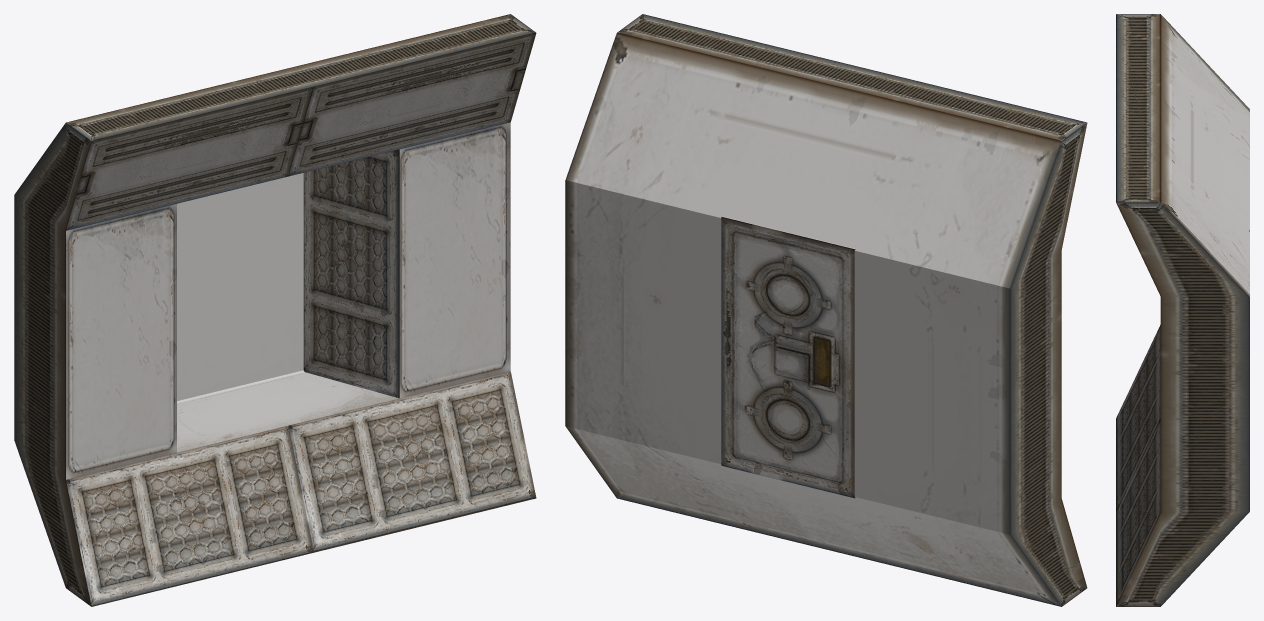
The model's file is scifi_wall10_3.FBX.
3 views of the same model, side by side, from view 1: azimuth 30°, elevation 25°; view 2: azimuth 150°, elevation 25°; view 3: azimuth 270°, elevation 25° (orthographic). The views are drawn at different scales.
Visible parts, largest first — view 1: Plane128; view 2: Plane128; view 3: Plane128.
Boxes of the visible parts, x1=… form: Plane128: x1=14, y1=14, x2=536, y2=606; Plane128: x1=565, y1=14, x2=1087, y2=606; Plane128: x1=1116, y1=14, x2=1249, y2=606.
Size of the model in its own units: 254 by 254 by 76.2.
